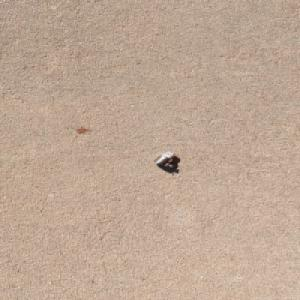MetalPart: (151, 151, 176, 168)
